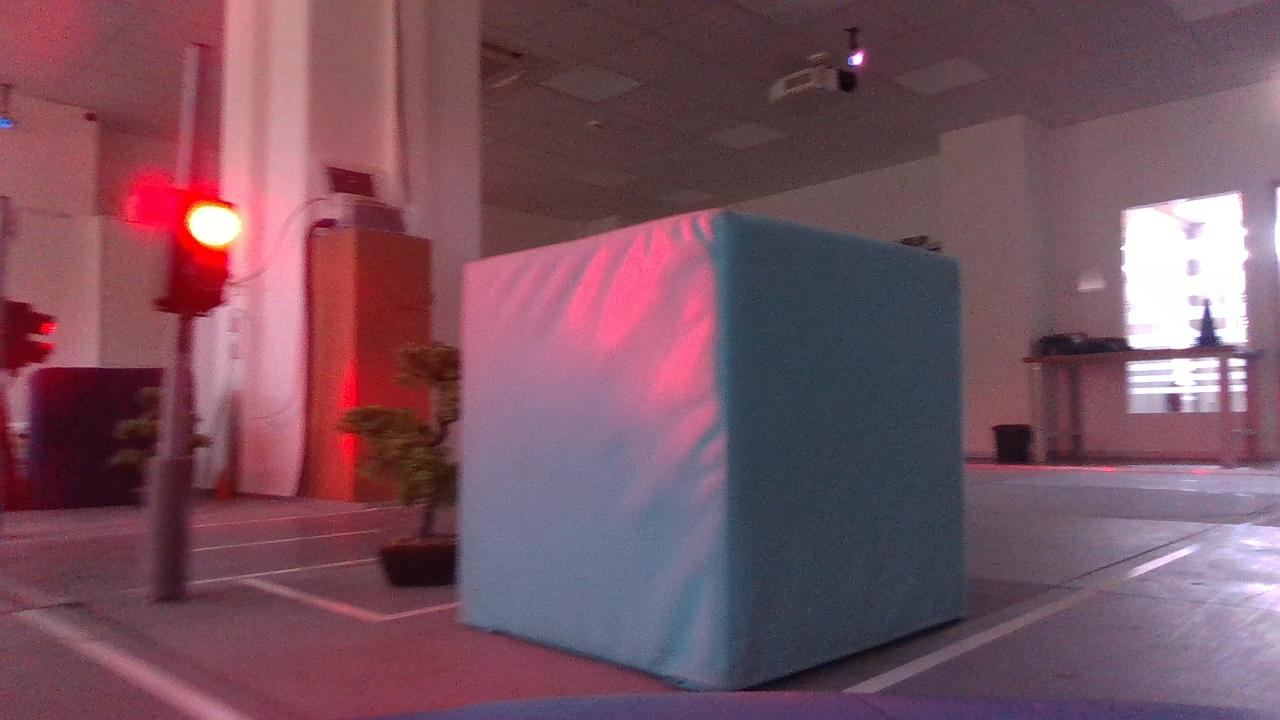traffic_light_red: (120, 175, 269, 338)
